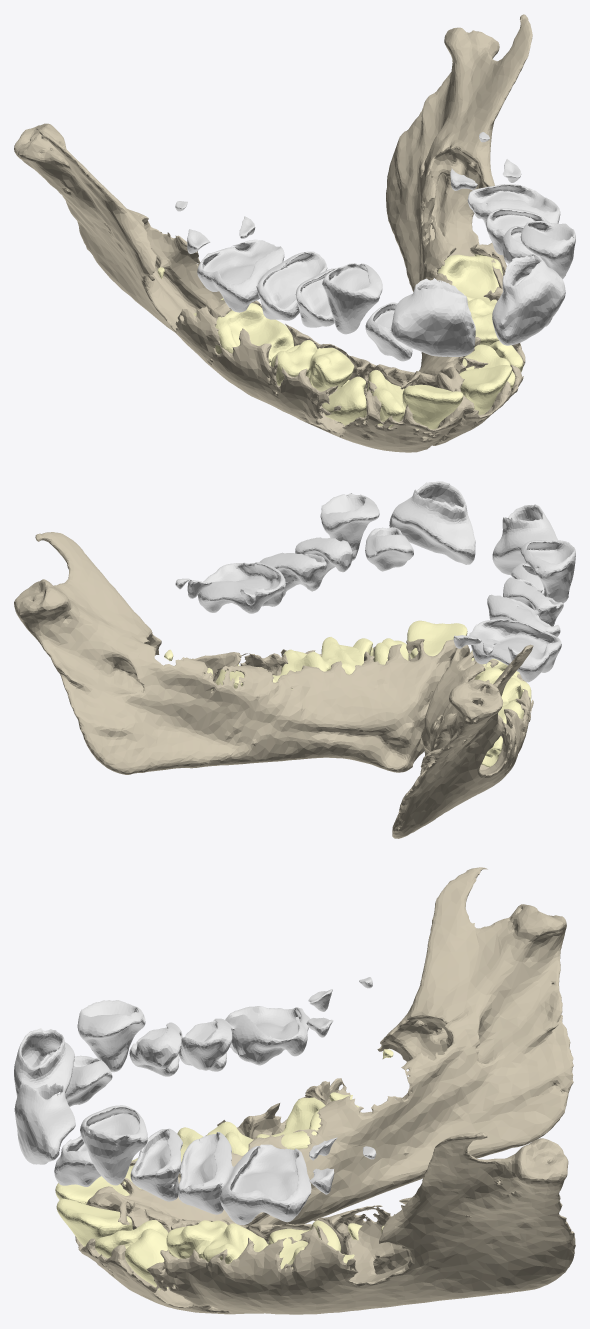
File: jaw.glb
3 views of the same model, one above another, from view 1: azimuth 30°, elevation 25°; view 2: azimuth 150°, elevation 25°; view 3: azimuth 270°, elevation 25° (orthographic). The views are drawn at different scales.
Parts seen in each view (by area): view 1: Mandible_forTaxon_70K, Teeth_max_50K, Teeth_mand_50K; view 2: Mandible_forTaxon_70K, Teeth_max_50K, Teeth_mand_50K; view 3: Mandible_forTaxon_70K, Teeth_max_50K, Teeth_mand_50K.
Boxes of the visible parts, box(x1,y1,x2,y2) form: Mandible_forTaxon_70K: box(14, 14, 532, 452); Teeth_max_50K: box(175, 132, 575, 361); Teeth_mand_50K: box(157, 254, 523, 429); Mandible_forTaxon_70K: box(14, 532, 533, 838); Teeth_max_50K: box(175, 481, 575, 682); Teeth_mand_50K: box(164, 620, 531, 767); Mandible_forTaxon_70K: box(75, 867, 575, 1314); Teeth_max_50K: box(14, 977, 376, 1225); Teeth_mand_50K: box(55, 1049, 393, 1290).
Bounding box in the file's own units: 21.26 × 11.56 × 19.26.
